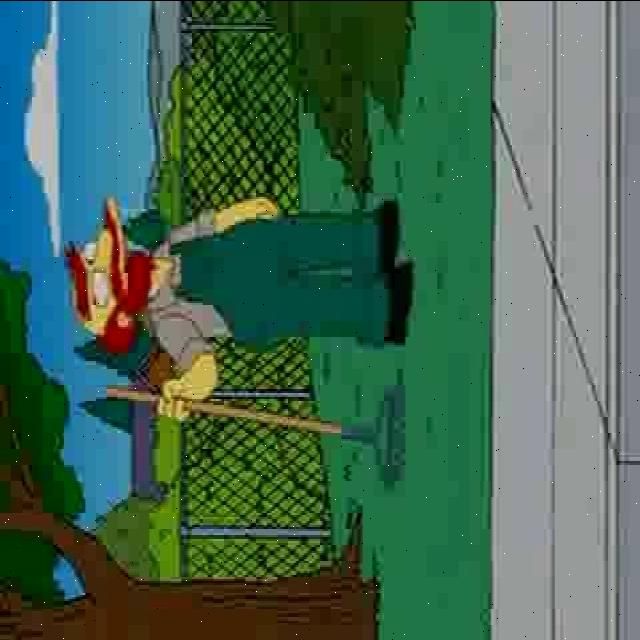Groundskeeper Willie: (64, 194, 158, 358)
